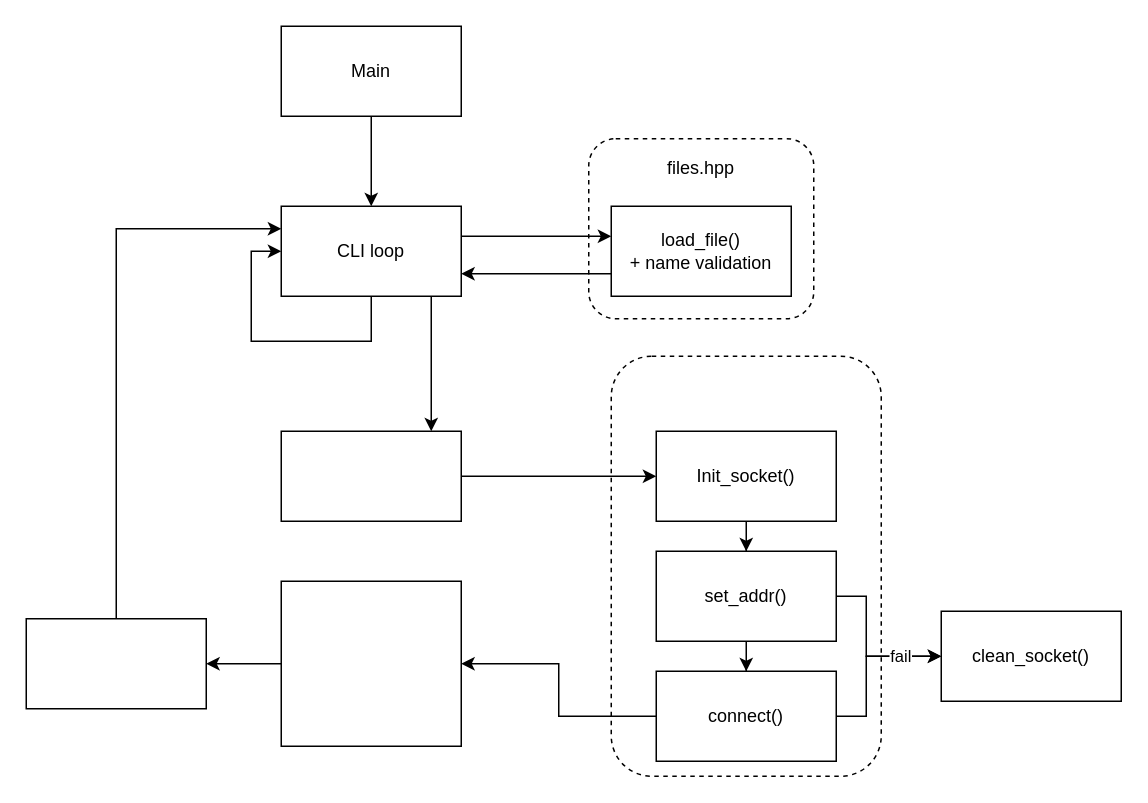
This 1148x803 diagram has some shape labels left out. The centre of each missing label's shape, as x and y in pixels:
"Communication sequence" belongs at pixel 370 663.
"send_image()" belongs at pixel 370 475.
"write to file" belongs at pixel 115 663.
